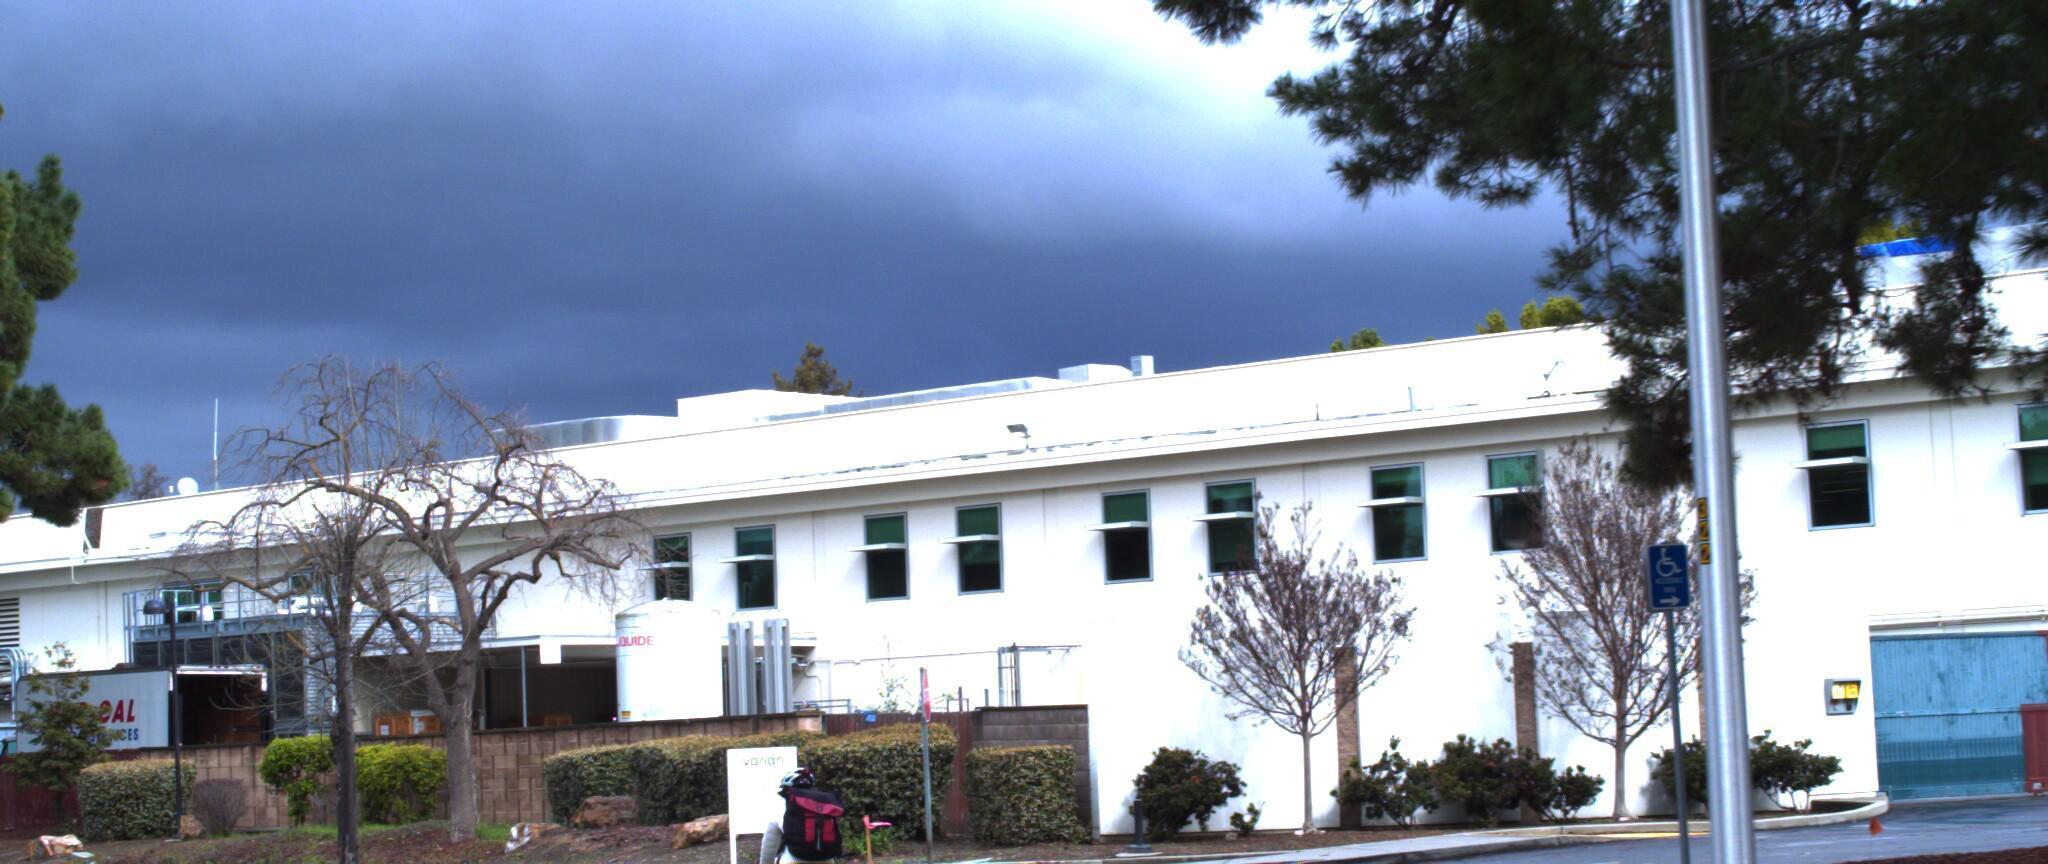bicycle: (705, 758, 893, 864)
truck: (0, 651, 294, 821)
